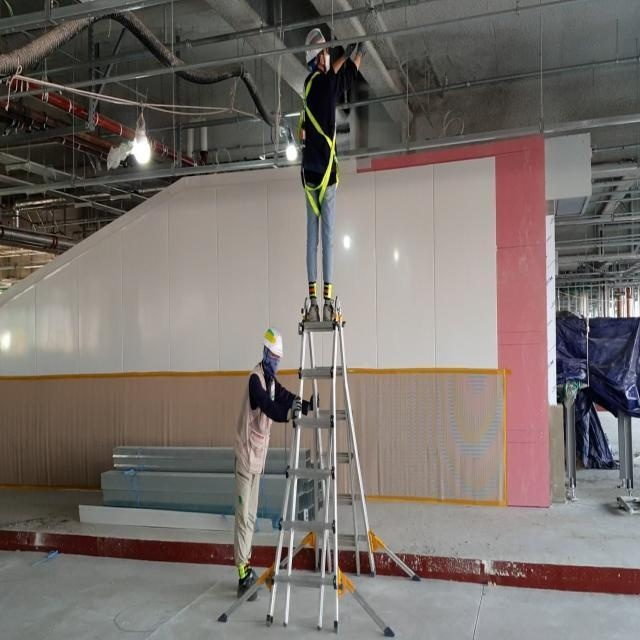Arnes_seguridad: (301, 72, 339, 217)
